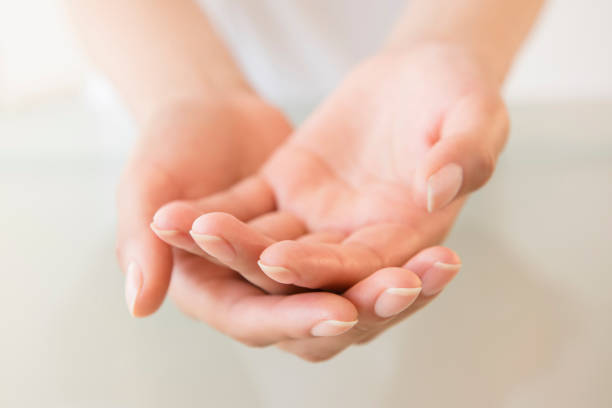non-diseased: (175, 74, 515, 308)
